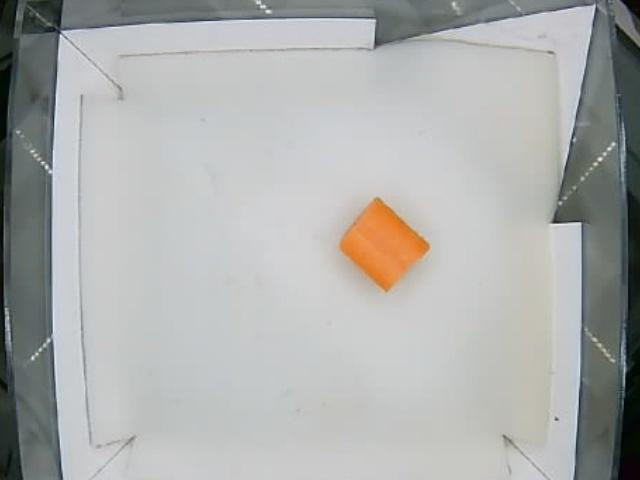Carrot: (341, 195, 429, 294)
